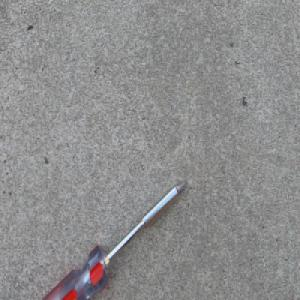Screwdriver: (36, 178, 188, 300)
